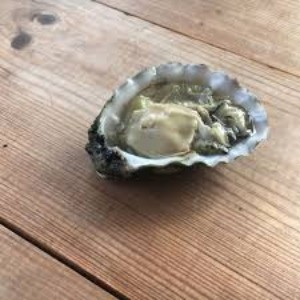oyster_brain food: (80, 61, 275, 175)
